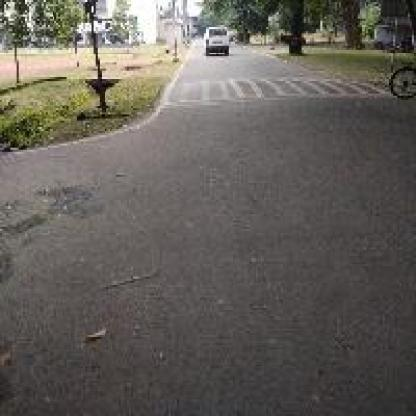Speed Bump: (164, 77, 389, 102)
